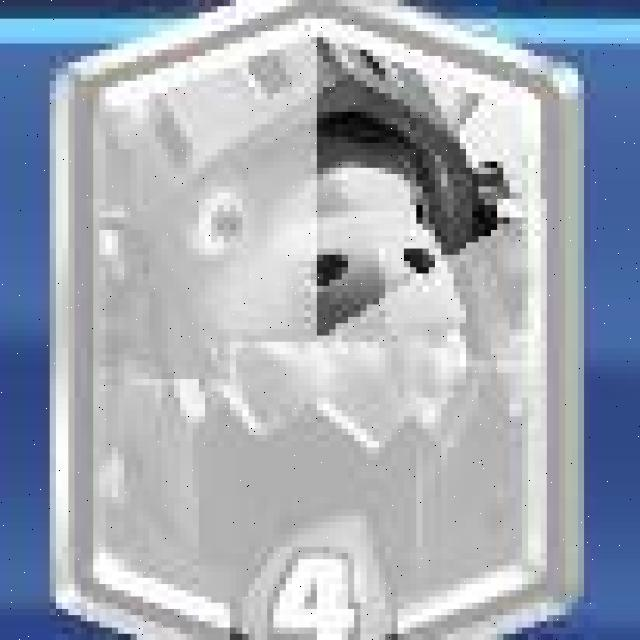Inferno_Dragon: (62, 3, 570, 640)
